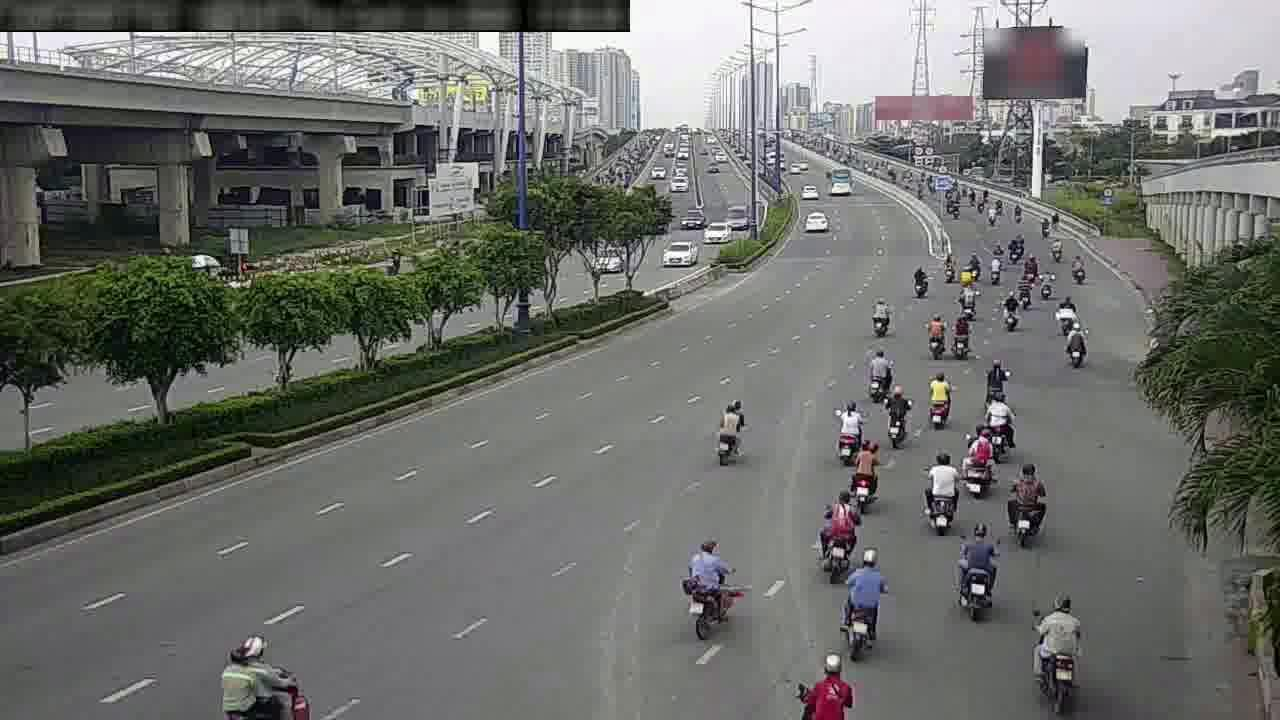motorbike: (217, 628, 311, 720), (678, 534, 735, 632), (1029, 595, 1082, 694), (950, 518, 1001, 613), (836, 556, 887, 651), (1002, 463, 1047, 541), (812, 497, 857, 572), (796, 656, 854, 709), (706, 396, 748, 468), (918, 457, 958, 530), (843, 440, 881, 505), (958, 433, 993, 494), (977, 388, 1015, 443), (829, 403, 863, 462), (878, 388, 911, 444), (921, 374, 953, 429), (860, 347, 893, 399), (978, 352, 1011, 400), (1059, 320, 1090, 369), (919, 310, 949, 357), (865, 292, 895, 338), (1050, 295, 1078, 336), (947, 314, 973, 358), (996, 293, 1023, 335), (954, 283, 979, 320), (1034, 266, 1057, 303), (1066, 253, 1089, 289), (910, 262, 931, 301), (983, 249, 1005, 286), (1012, 274, 1034, 309), (939, 249, 957, 283), (1022, 249, 1041, 281), (1005, 230, 1023, 263), (966, 248, 983, 280), (1046, 233, 1064, 262)
